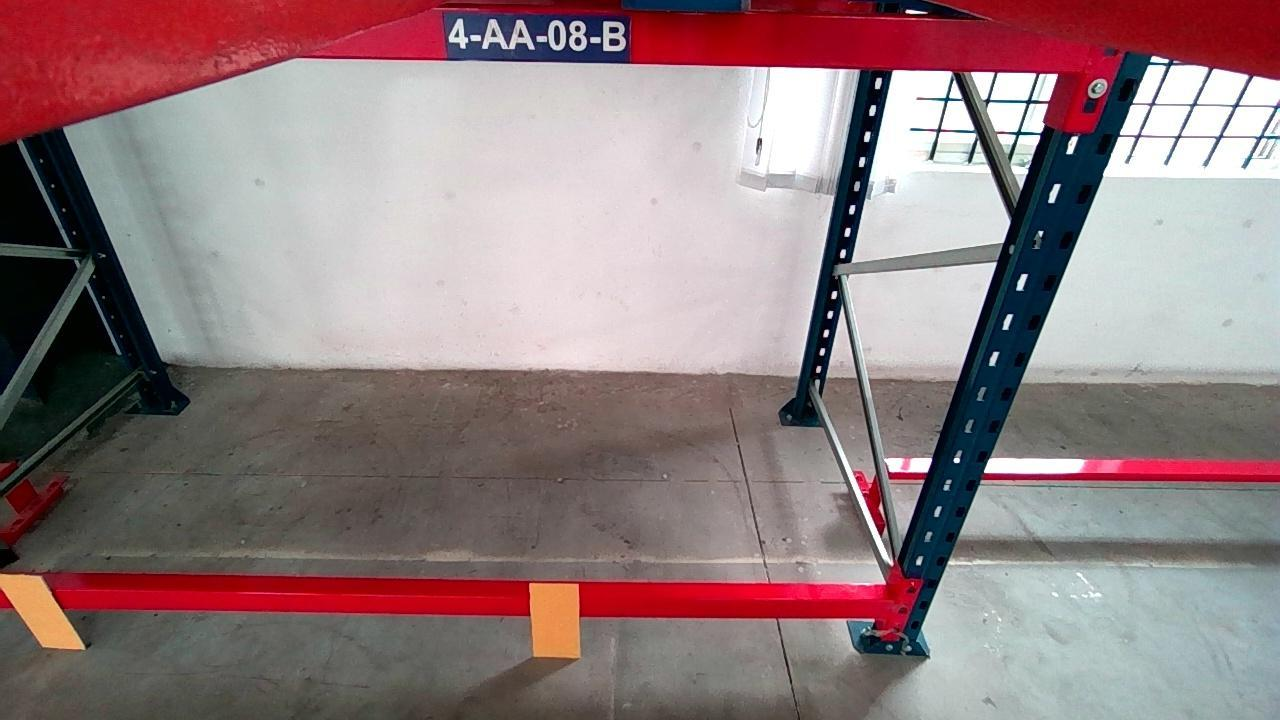h_rack: (311, 10, 1086, 73), (2, 583, 888, 620)
orange_strip: (2, 575, 85, 649), (531, 582, 580, 657)
